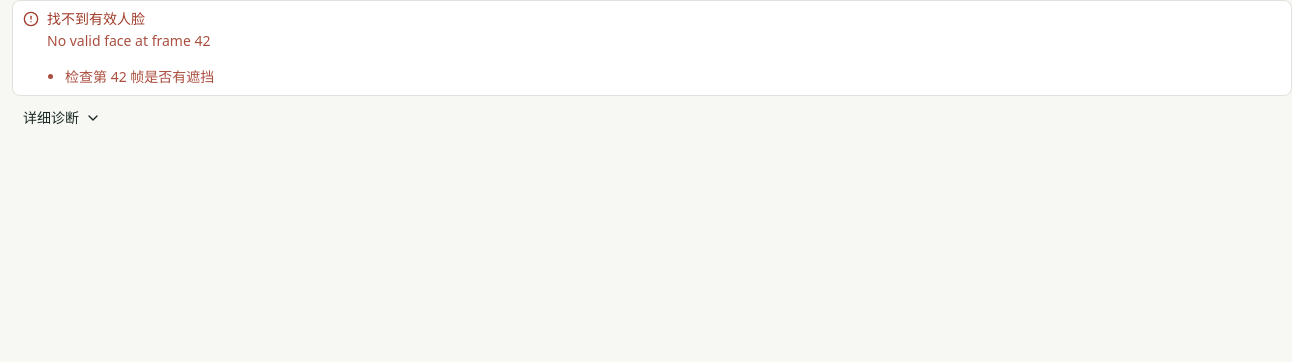
it: keeps the original no_face diagnosis visible
Check: the text "No valid face at frame 42" is shown, box x1=47 y1=31 x2=210 y2=50
Click the button "详细诊断".
click(61, 118)  # box x1=12 y1=102 x2=110 y2=134
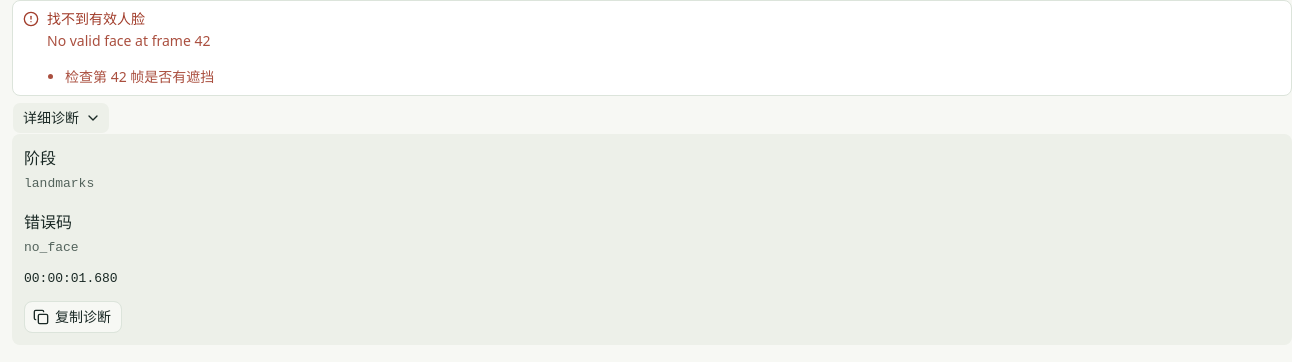
Check: the list item "检查第 42 帧是否有遮挡" is shown, box x1=65 y1=67 x2=214 y2=86
Check: the text "landmarks" is shown, box x1=24 y1=176 x2=94 y2=191
Check: the text "00:00:01.680" is shown, box x1=24 y1=271 x2=118 y2=286
